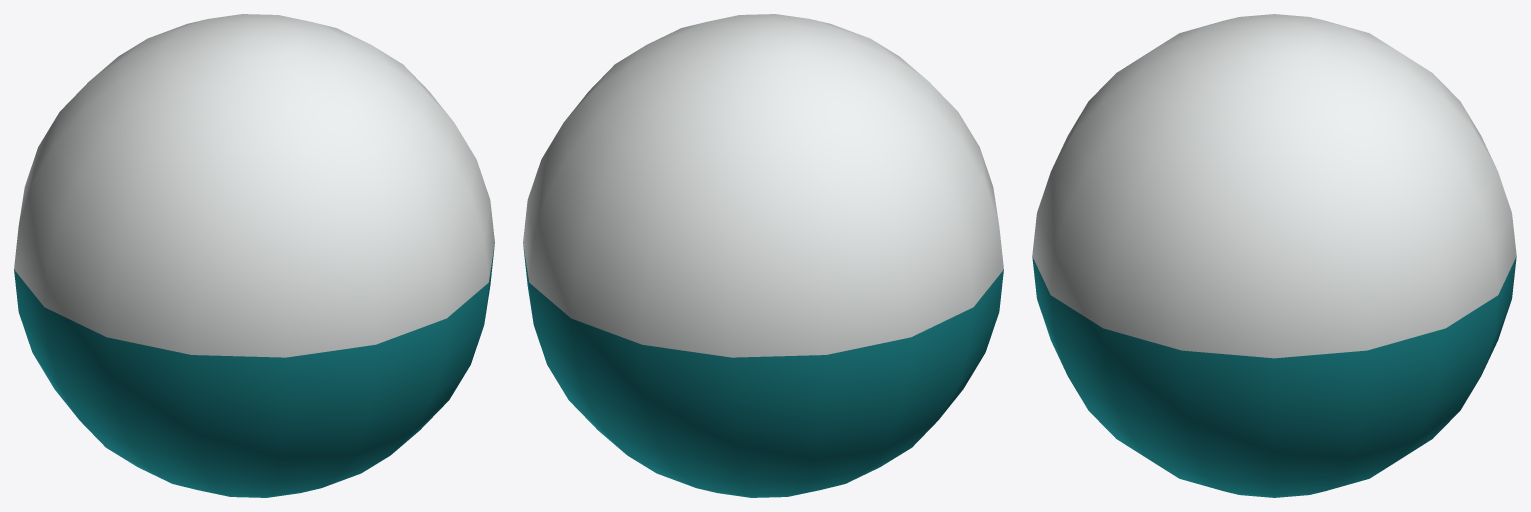
Rendered from Ball02.fbx.
The picture shows the model from 3 angles, left to right: view 1: azimuth 30°, elevation 25°; view 2: azimuth 150°, elevation 25°; view 3: azimuth 270°, elevation 25°; orthographic projection.
Visible parts, largest first — view 1: Ball02; view 2: Ball02; view 3: Ball02.
Boxes of the visible parts, left/top/right/bottom form: Ball02: left=14, top=14, right=494, bottom=497; Ball02: left=523, top=14, right=1003, bottom=497; Ball02: left=1032, top=14, right=1516, bottom=497.
Bounding box in the file's own units: 1.2 × 1.2 × 1.2.
Materials: 1 (1 with a texture image).
